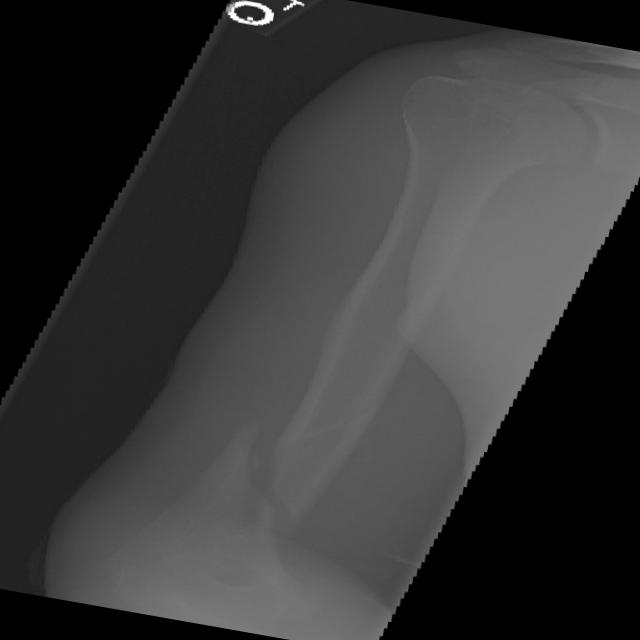humerus fracture: (121, 370, 403, 591)
